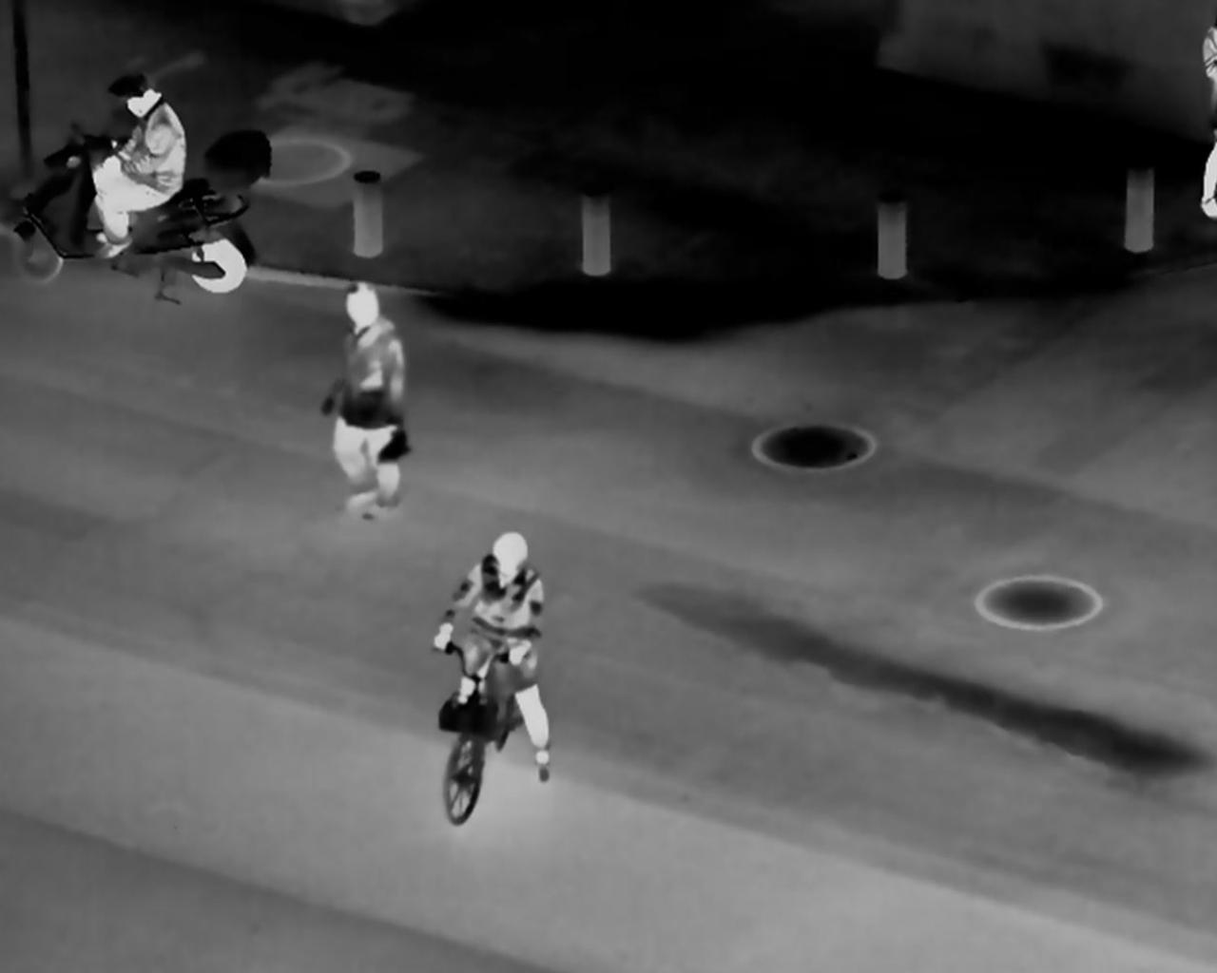person: (438, 523, 561, 810), (301, 276, 429, 527), (77, 67, 208, 290)
